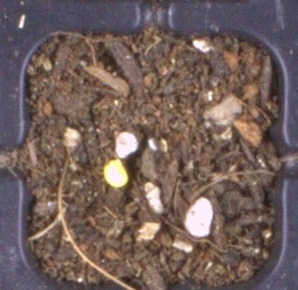chilli seed: (102, 158, 129, 188)
